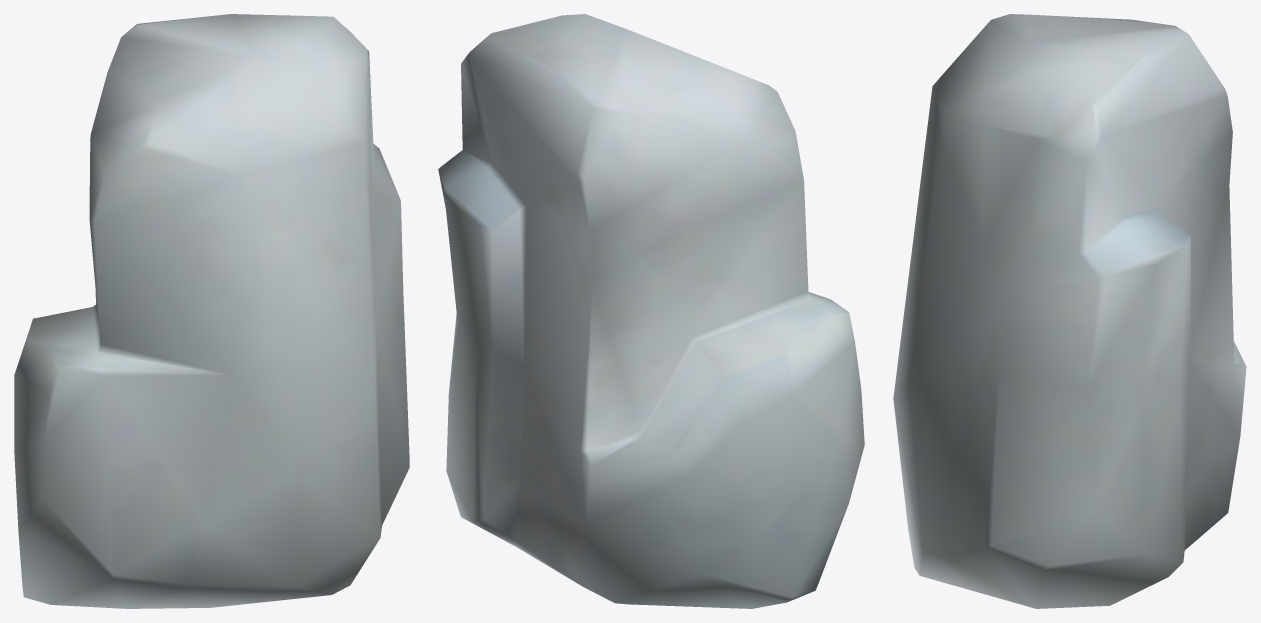
Rendered from P_RockSpire_Rock09.obj.
The picture shows the model from 3 angles, left to right: view 1: azimuth 30°, elevation 25°; view 2: azimuth 150°, elevation 25°; view 3: azimuth 270°, elevation 25°; orthographic projection. The views are drawn at different scales.
Bounding box in the file's own units: 6.77 × 8.82 × 5.18.
